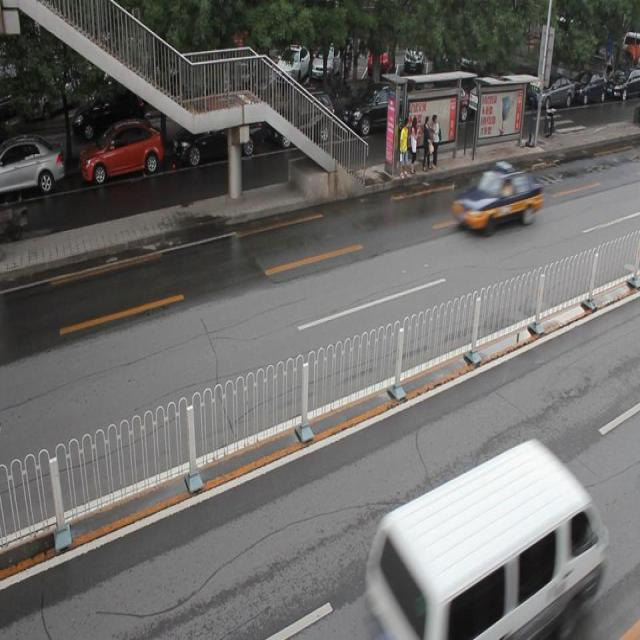car: (454, 158, 543, 228), (175, 94, 262, 161), (79, 120, 162, 184), (0, 137, 64, 197), (342, 81, 411, 135), (272, 89, 334, 147)
truck: (365, 441, 606, 640)
